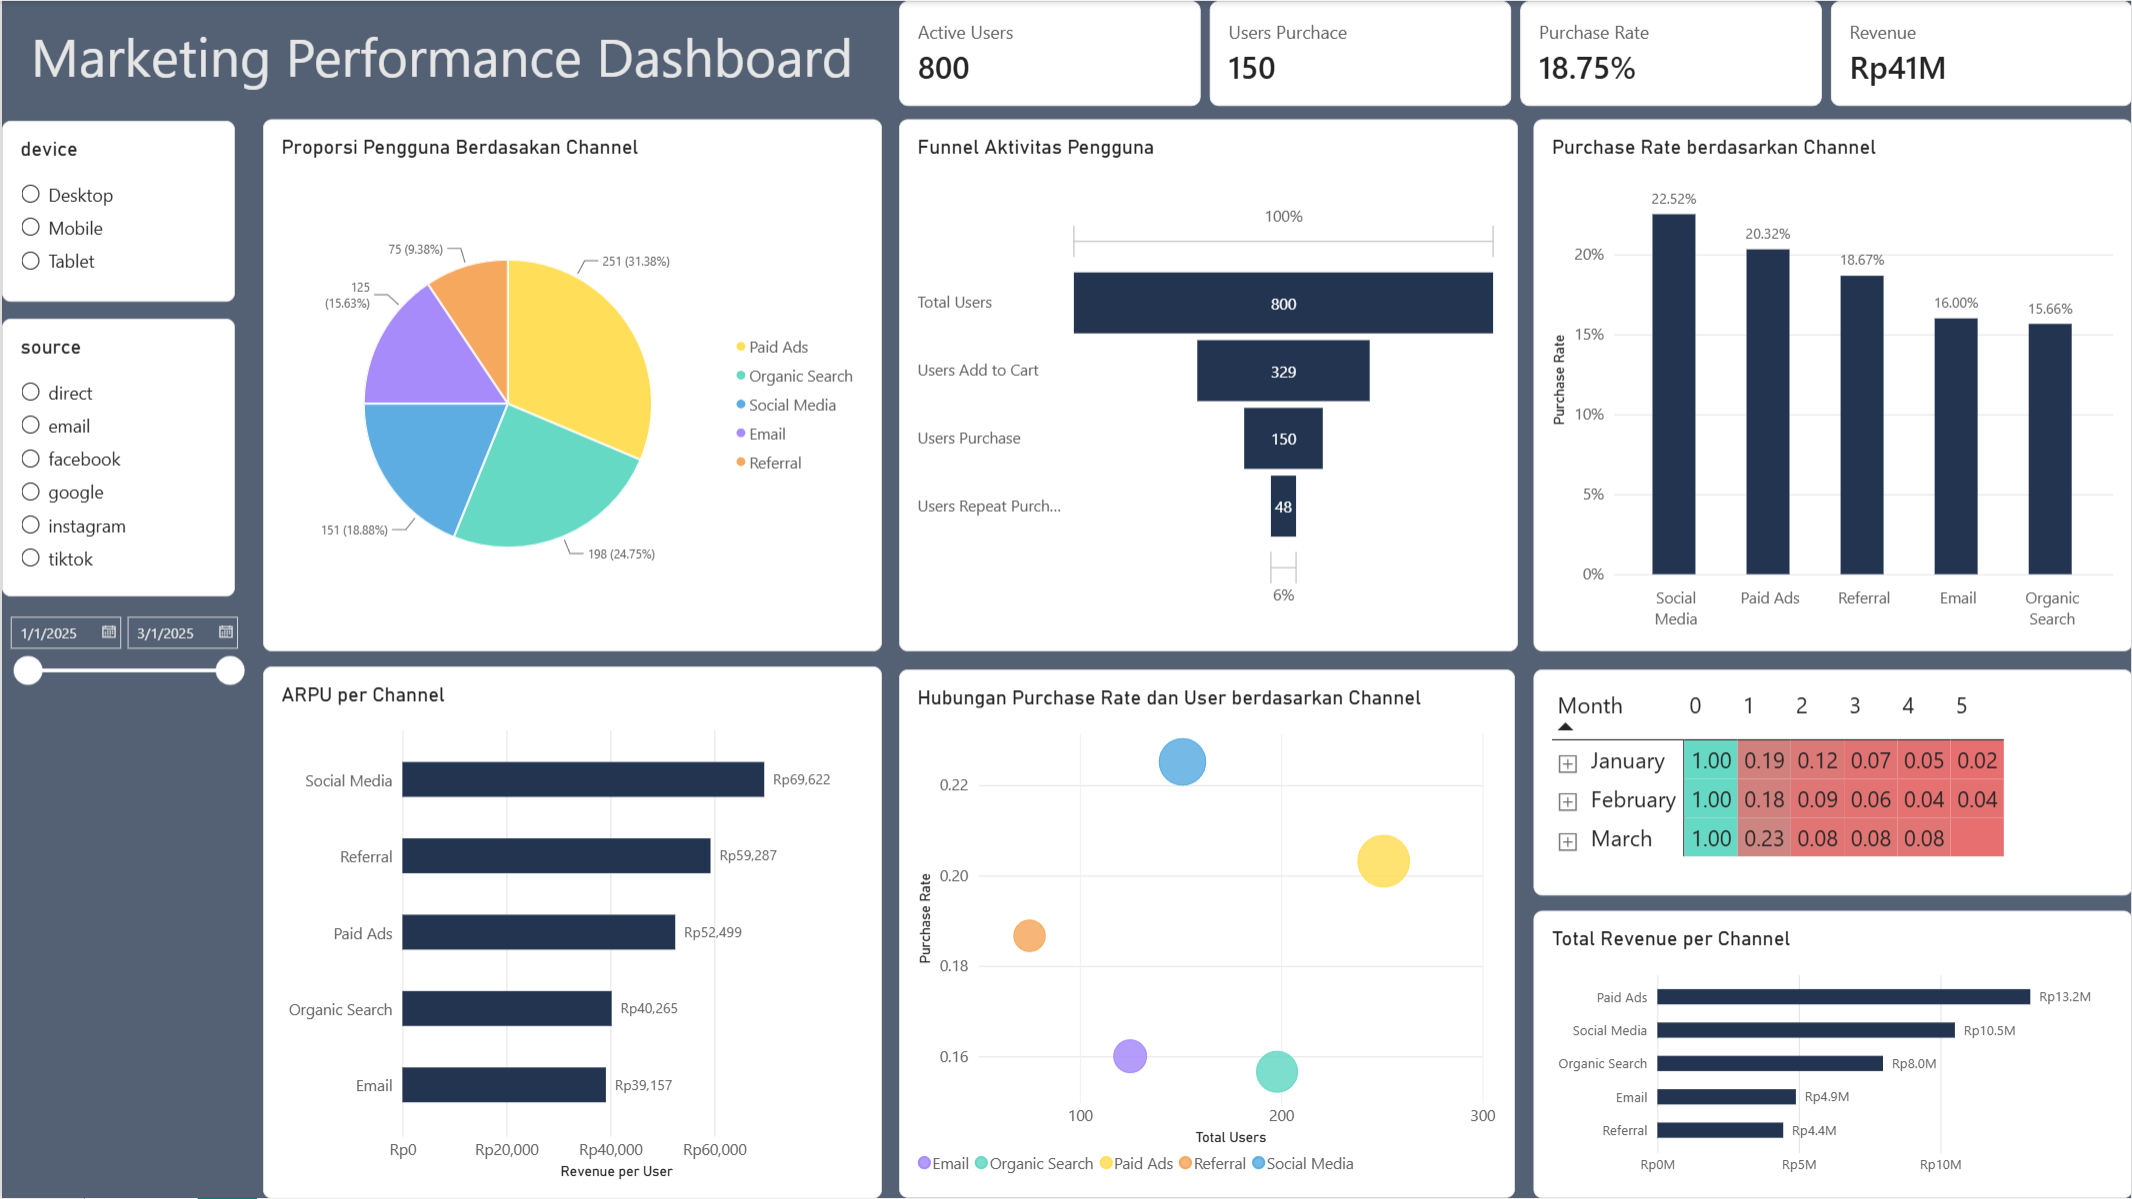

The page's visual inventory and layout, read from the dashboard file:
{"tool":"powerbi","page":{"name":"Page 1","canvas":[1920,1080],"ordinal":0},"visuals":[{"type":"cardVisual","fields":{"Data":["CountNonNull(practical_data_marketing_growth_analytics.user_id)","Sum(practical_data_marketing_growth_analytics.purchase)","practical_data_marketing_growth_analytics.Purchase Rate","Sum(practical_data_marketing_growth_analytics.revenue)"]},"box":[808.2,0,1112.4,95.6],"z":0},{"type":"funnel","title":"Funnel Aktivitas Pengguna","fields":{"Y":["Count(practical_data_marketing_growth_analytics.user_id)","Sum(practical_data_marketing_growth_analytics.add_to_cart)","Sum(practical_data_marketing_growth_analytics.purchase)","Sum(practical_data_marketing_growth_analytics.repeat_purchase)"]},"box":[808.6,107.1,557.9,479.7],"z":1000},{"type":"listSlicer","fields":{"Values":["practical_data_marketing_growth_analytics.device"]},"box":[0,107.8,210.3,163.4],"z":2000},{"type":"listSlicer","fields":{"Values":["practical_data_marketing_growth_analytics.source"]},"box":[0,286.6,209.7,250.4],"z":3000},{"type":"clusteredBarChart","title":"ARPU per Channel","fields":{"Category":["practical_data_marketing_growth_analytics.channel"],"Y":["practical_data_marketing_growth_analytics.Revenue per User"]},"box":[235.4,600.4,558.2,479.8],"z":4000},{"type":"pieChart","title":"Proporsi Pengguna Berdasakan Channel","fields":{"Category":["practical_data_marketing_growth_analytics.channel"],"Y":["Count(practical_data_marketing_growth_analytics.user_id)"]},"box":[235.4,107.1,558.2,479.8],"z":5000},{"type":"clusteredColumnChart","title":"Purchase Rate berdasarkan Channel","fields":{"Category":["practical_data_marketing_growth_analytics.channel"],"Y":["practical_data_marketing_growth_analytics.Purchase Rate"]},"box":[1380.4,107.1,540.1,479.8],"z":6000},{"type":"scatterChart","title":"Hubungan Purchase Rate dan User berdasarkan Channel","fields":{"Series":["practical_data_marketing_growth_analytics.channel"],"Size":["Sum(practical_data_marketing_growth_analytics.revenue)"],"X":["Count(practical_data_marketing_growth_analytics.user_id)"],"Y":["practical_data_marketing_growth_analytics.Purchase Rate"]},"box":[808.6,603.5,555.2,476.7],"z":7000},{"type":"slicer","fields":{"Values":["practical_data_marketing_growth_analytics.first_visit_date"]},"box":[0,550.7,221.8,101.1],"z":8000},{"type":"pivotTable","fields":{"Columns":["Retention Period.Month No"],"Rows":["practical_data_marketing_growth_analytics.Cohort Month.Variation.Date Hierarchy.Month","practical_data_marketing_growth_analytics.Cohort Month.Variation.Date Hierarchy.Day"],"Values":["Retention Period.Retention Rate"]},"box":[1380.4,603.5,540.1,203.7],"z":9000},{"type":"textbox","box":[0,16.6,793.6,78.5],"z":10000},{"type":"clusteredBarChart","title":"Total Revenue per Channel","fields":{"Category":["practical_data_marketing_growth_analytics.channel"],"Y":["Sum(practical_data_marketing_growth_analytics.revenue)"]},"box":[1380.4,820.7,540.1,259.5],"z":10001}]}

Visuals, with their boxes in screenshot pixels (x1, y1, x2, y2), scaled from the page's 1920x1080 canvas onto the 2132x1199 screenshot:
cardVisual - CountNonNull(practical_data_marketing_growth_analytics.user_id) x Sum(practical_data_marketing_growth_analytics.purchase): [left=897, top=0, right=2131, bottom=106]
"Funnel Aktivitas Pengguna" funnel: [left=898, top=119, right=1517, bottom=651]
listSlicer - practical_data_marketing_growth_analytics.device: [left=0, top=120, right=234, bottom=301]
listSlicer - practical_data_marketing_growth_analytics.source: [left=0, top=318, right=233, bottom=596]
"ARPU per Channel" clusteredBarChart: [left=261, top=667, right=881, bottom=1198]
"Proporsi Pengguna Berdasakan Channel" pieChart: [left=261, top=119, right=881, bottom=652]
"Purchase Rate berdasarkan Channel" clusteredColumnChart: [left=1533, top=119, right=2131, bottom=652]
"Hubungan Purchase Rate dan User berdasarkan Channel" scatterChart: [left=898, top=670, right=1514, bottom=1198]
slicer - practical_data_marketing_growth_analytics.first_visit_date: [left=0, top=611, right=246, bottom=724]
pivotTable - Retention Period.Month No x practical_data_marketing_growth_analytics.Cohort Month.Variation.Date Hierarchy.Month: [left=1533, top=670, right=2131, bottom=896]
textbox: [left=0, top=18, right=881, bottom=106]
"Total Revenue per Channel" clusteredBarChart: [left=1533, top=911, right=2131, bottom=1198]
